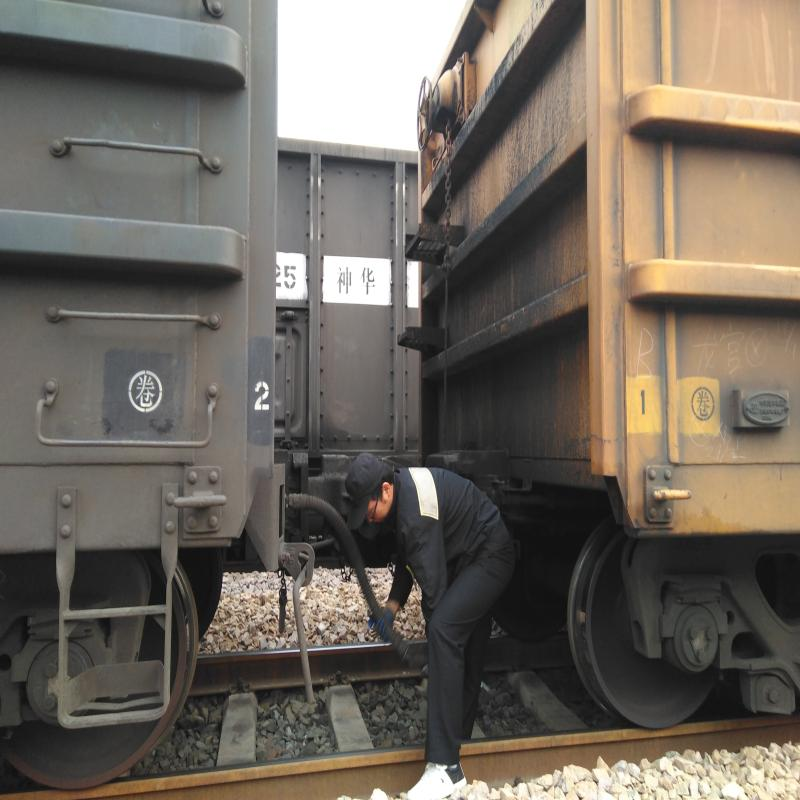train: (493, 30, 800, 724), (1, 202, 273, 775)
